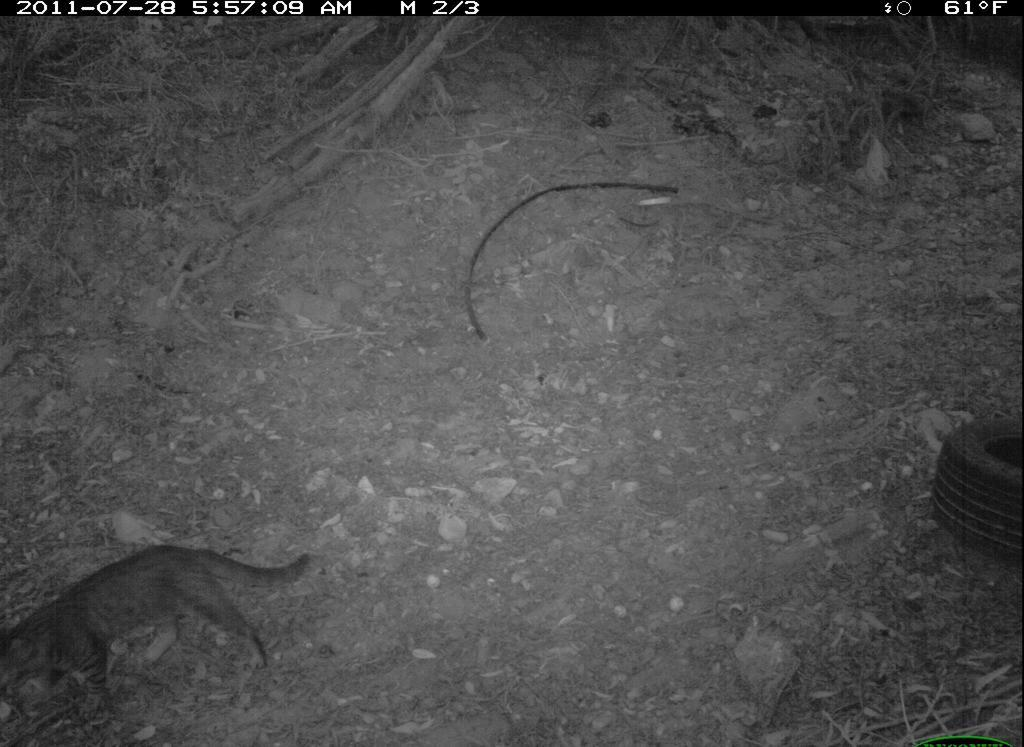cat: (1, 525, 326, 733)
